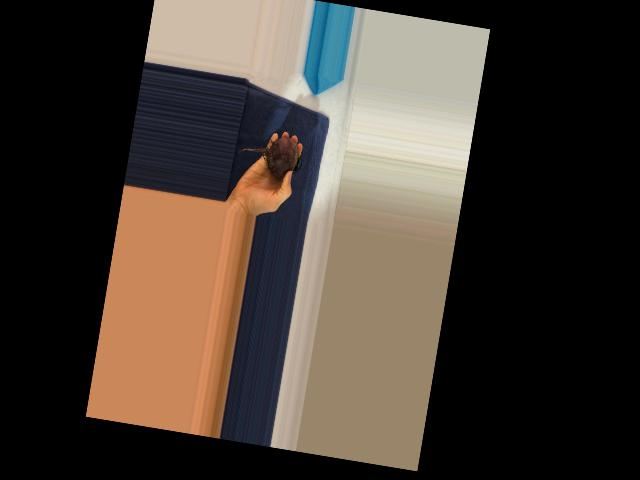beet: (235, 129, 305, 180)
